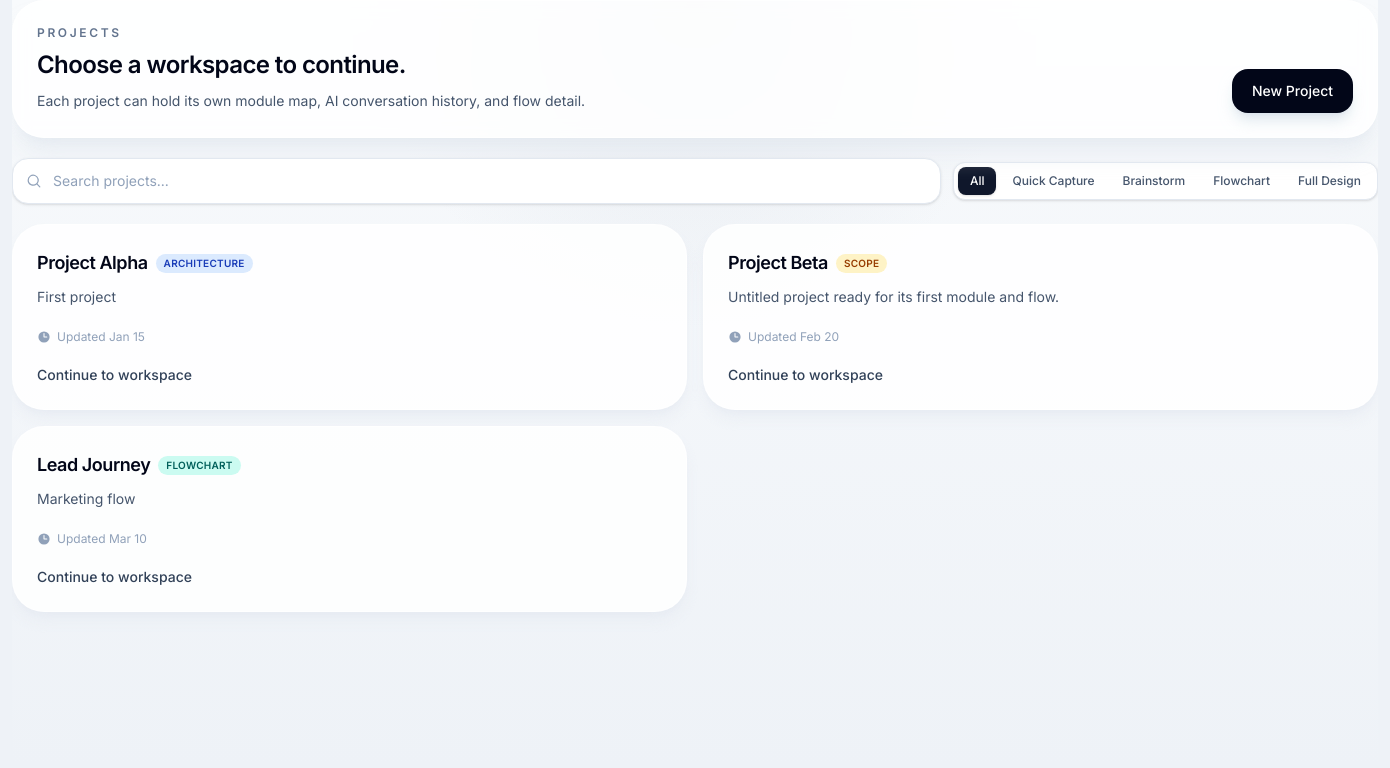
it: ProjectList › shows mode selector when "New Project" is clicked
Click the button "New Project": click(1292, 91) [1232,69,1353,113]
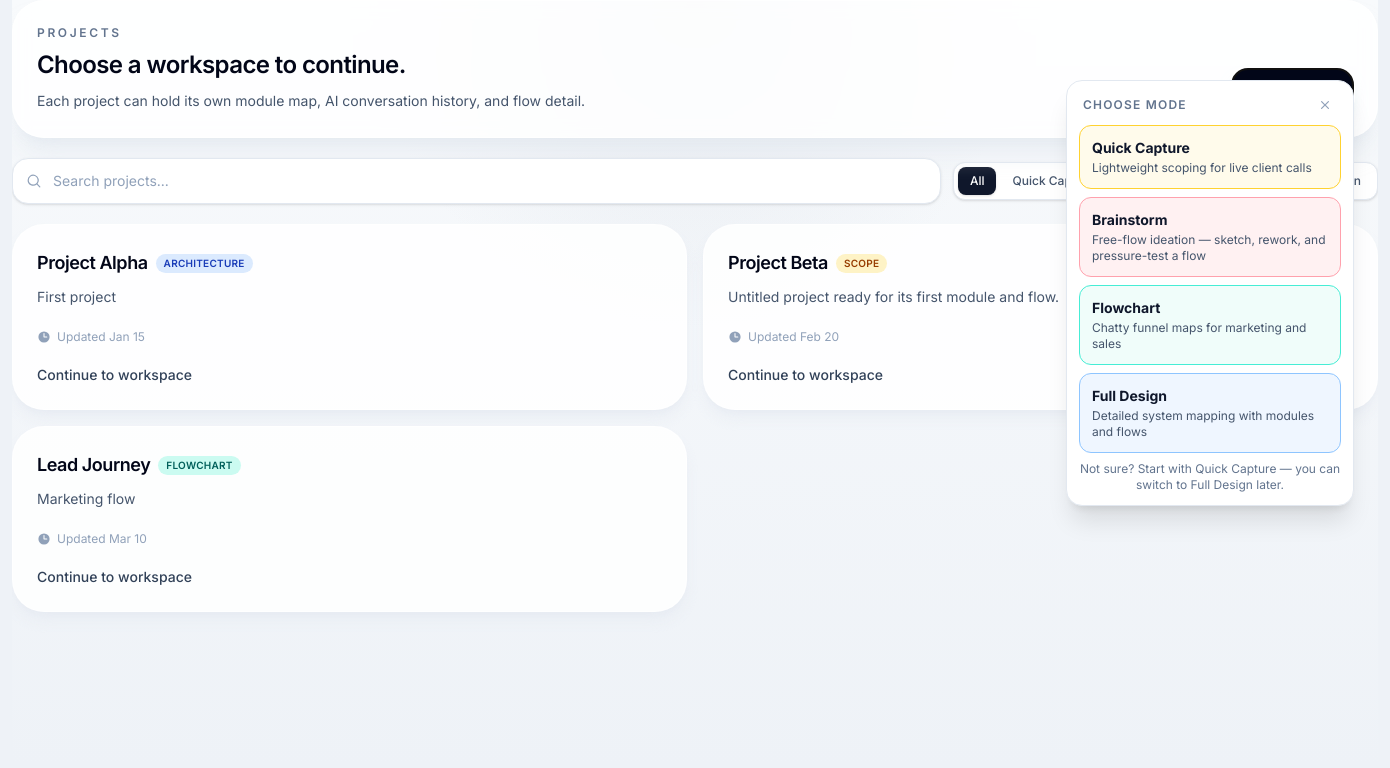
Expected: the button "Quick Capture Lightweight scoping for live client calls" is shown, [1079,125,1341,189]
Expected: the button "Flowchart Chatty funnel maps for marketing and sales" is shown, [1079,285,1341,365]
Expected: the button "Full Design Detailed system mapping with modules and flows" is shown, [1079,373,1341,453]
